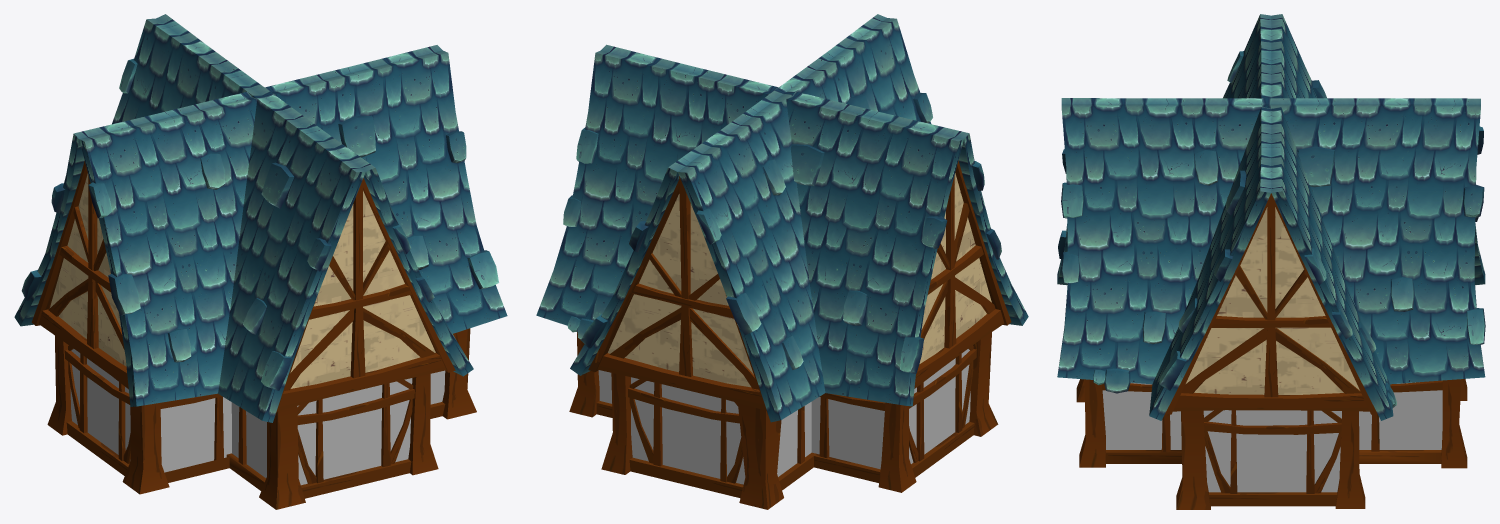
3 renders of one model, left to right at view 1: azimuth 30°, elevation 25°; view 2: azimuth 150°, elevation 25°; view 3: azimuth 270°, elevation 25°, orthographic.
Parts seen in each view (by area): view 1: SM_BLD_body_v07_01.001; view 2: SM_BLD_body_v07_01.001; view 3: SM_BLD_body_v07_01.001.
Boxes of the visible parts, <box> form: SM_BLD_body_v07_01.001: <box>14,14,507,509</box>; SM_BLD_body_v07_01.001: <box>536,14,1028,509</box>; SM_BLD_body_v07_01.001: <box>1057,14,1485,509</box>.
Size of the model in its own units: 1288 by 1078 by 1288.
